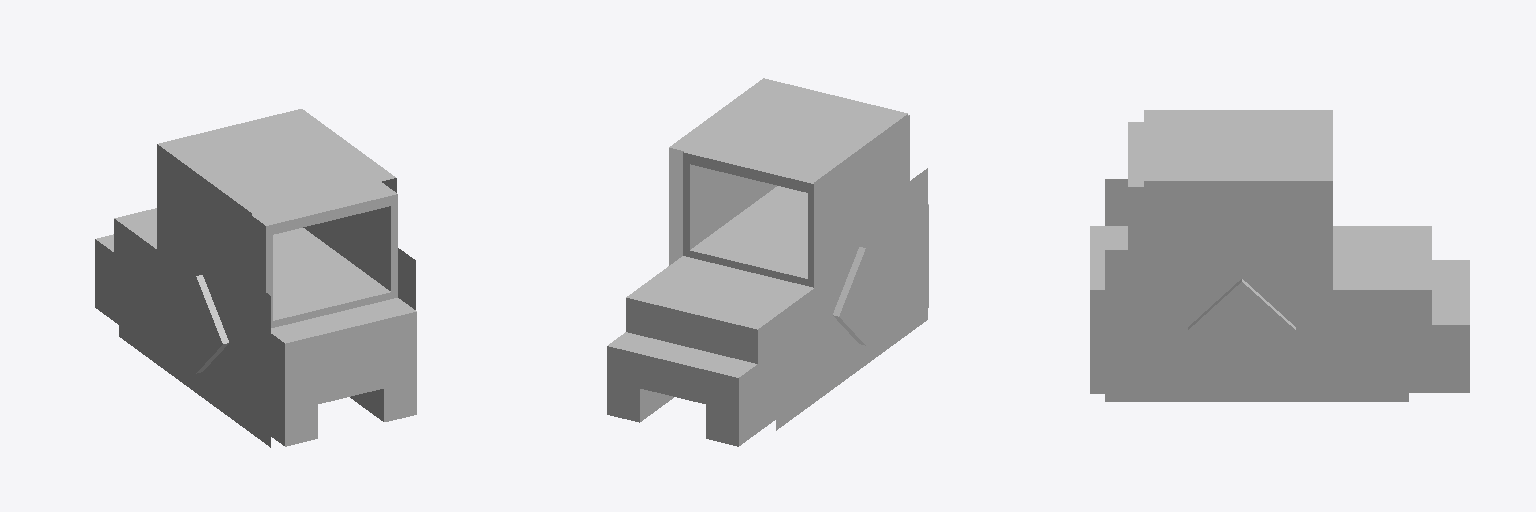
Rendered from holographic.obj.
3 renders of one model, left to right at view 1: azimuth 30°, elevation 25°; view 2: azimuth 150°, elevation 25°; view 3: azimuth 270°, elevation 25°, orthographic.
Parts seen in each view (by area): view 1: Plane.003_Plane.004; view 2: Plane.003_Plane.004; view 3: Plane.003_Plane.004.
Boxes of the visible parts, x1=… form: Plane.003_Plane.004: x1=95, y1=109, x2=416, y2=447; Plane.003_Plane.004: x1=607, y1=78, x2=928, y2=446; Plane.003_Plane.004: x1=1090, y1=110, x2=1469, y2=401.
Bounding box in the file's own units: 0.0374 × 0.05 × 0.0781.